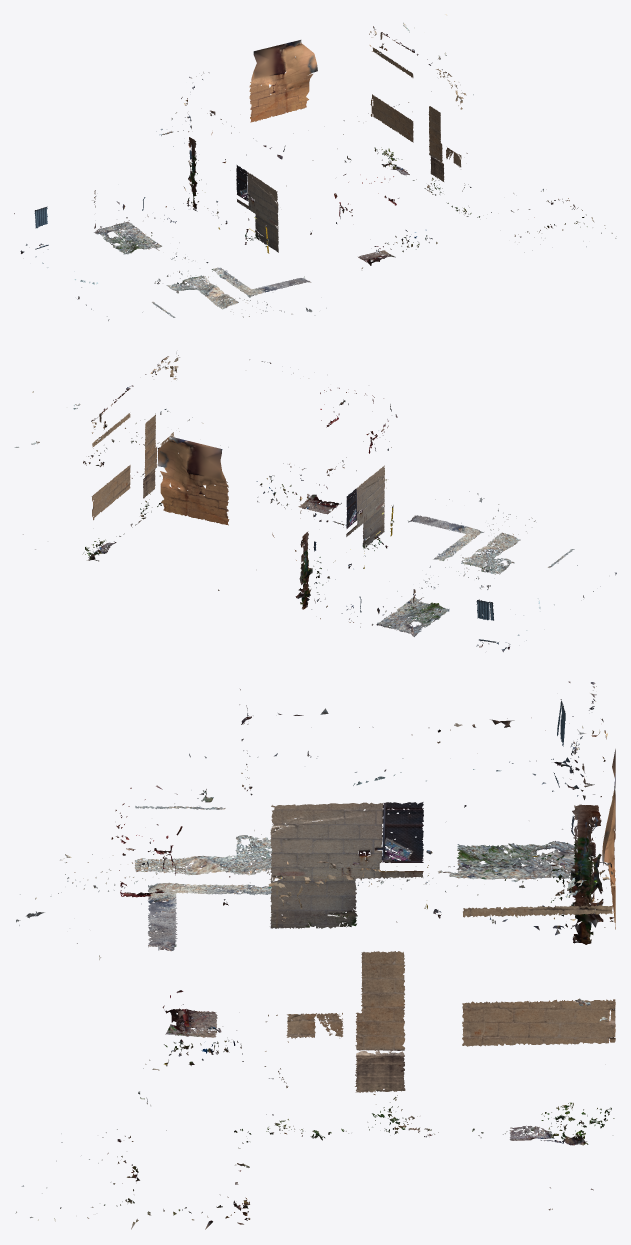
3 views of the same model, one above another, from view 1: azimuth 30°, elevation 25°; view 2: azimuth 150°, elevation 25°; view 3: azimuth 270°, elevation 25° (orthographic). The views are drawn at different scales.
Size of the model in its own units: 11.17 by 3.23 by 6.14.
Materials: 1 (1 with a texture image).
